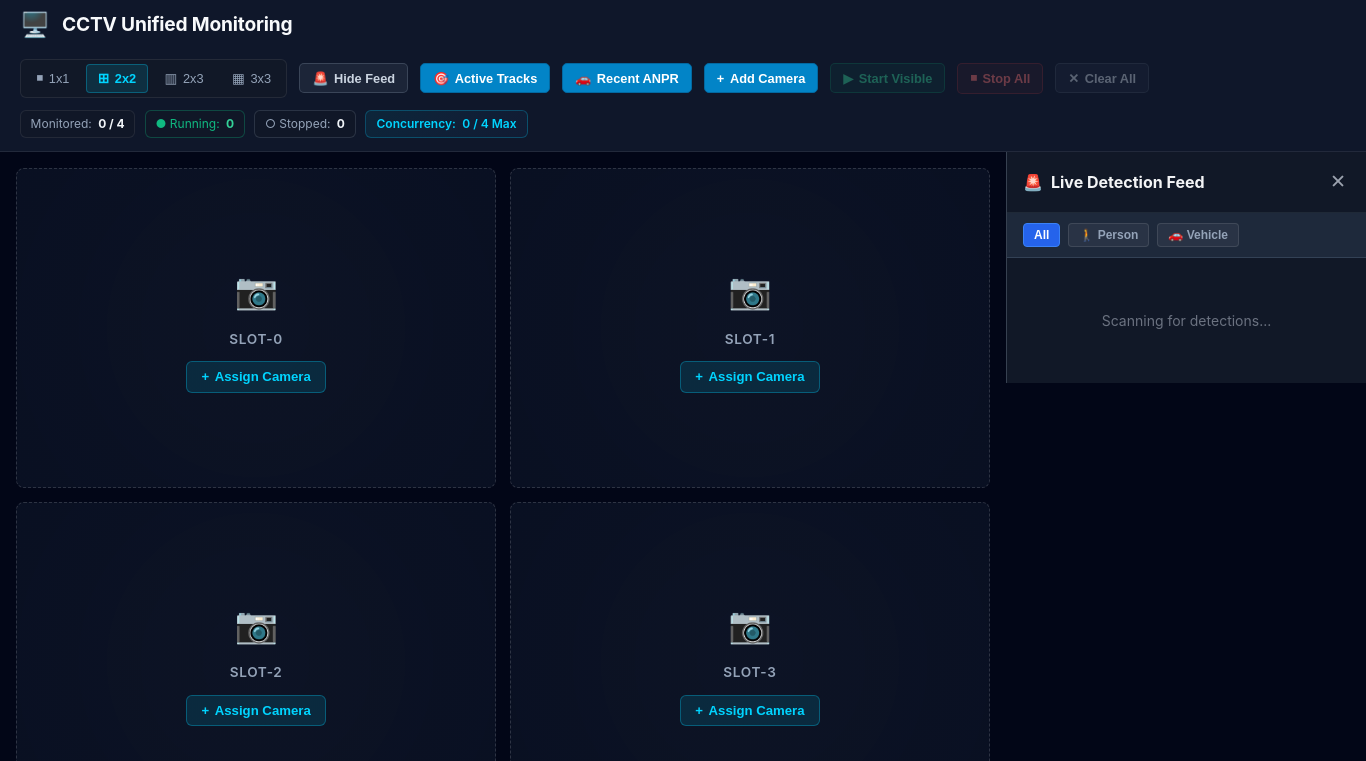
Phase 6 — MonitoringPage & Multi-Camera Grid › 2. switches between 1x1, 2x2, 2x3, and 3x3 layouts
Switch to 1x1
Click the button "⏹ 1x1" at (53, 78), box x1=25 y1=64 x2=81 y2=93
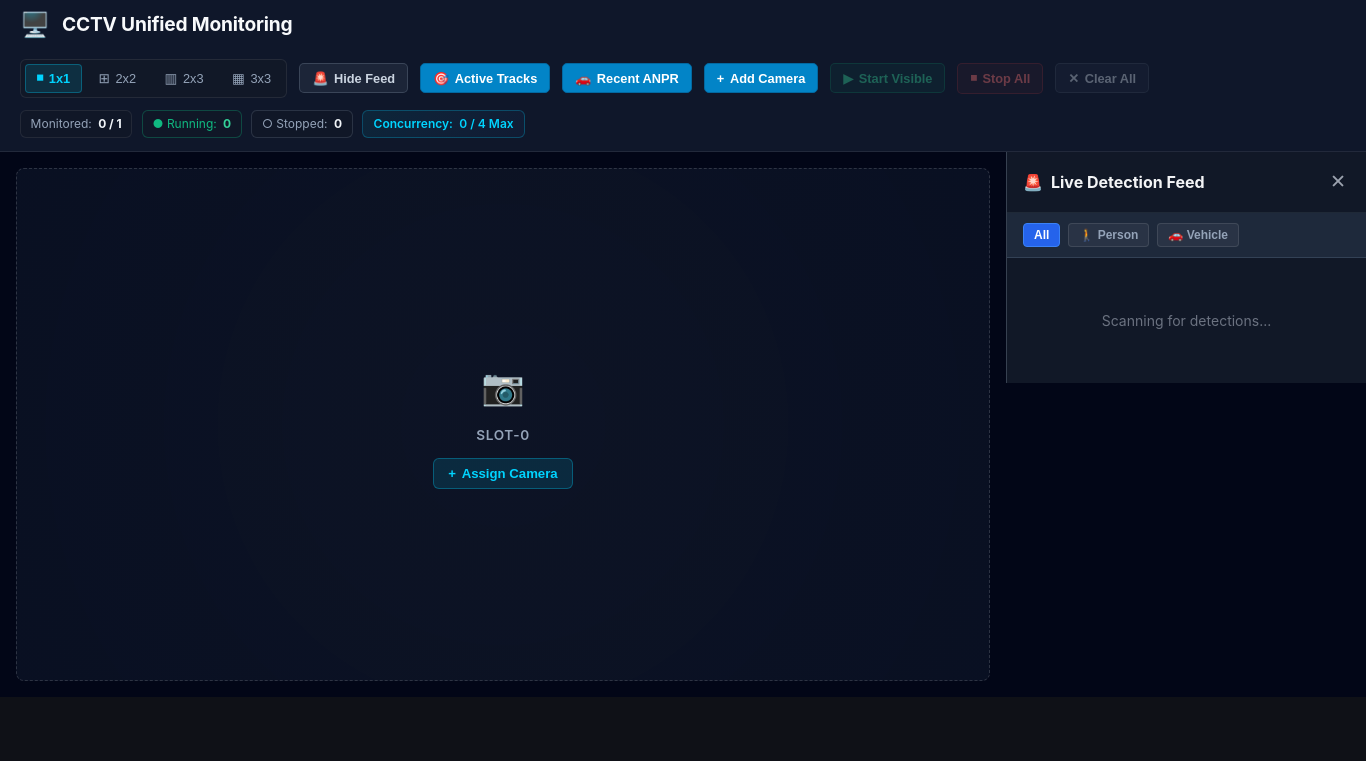
Expected: the text "SLOT-0" is shown, x1=476 y1=425 x2=530 y2=446
Result: the text "SLOT-1" is gone
Switch to 2x3 (6 slots)
Click the button "▥ 2x3" at (184, 78), box x1=153 y1=64 x2=215 y2=93
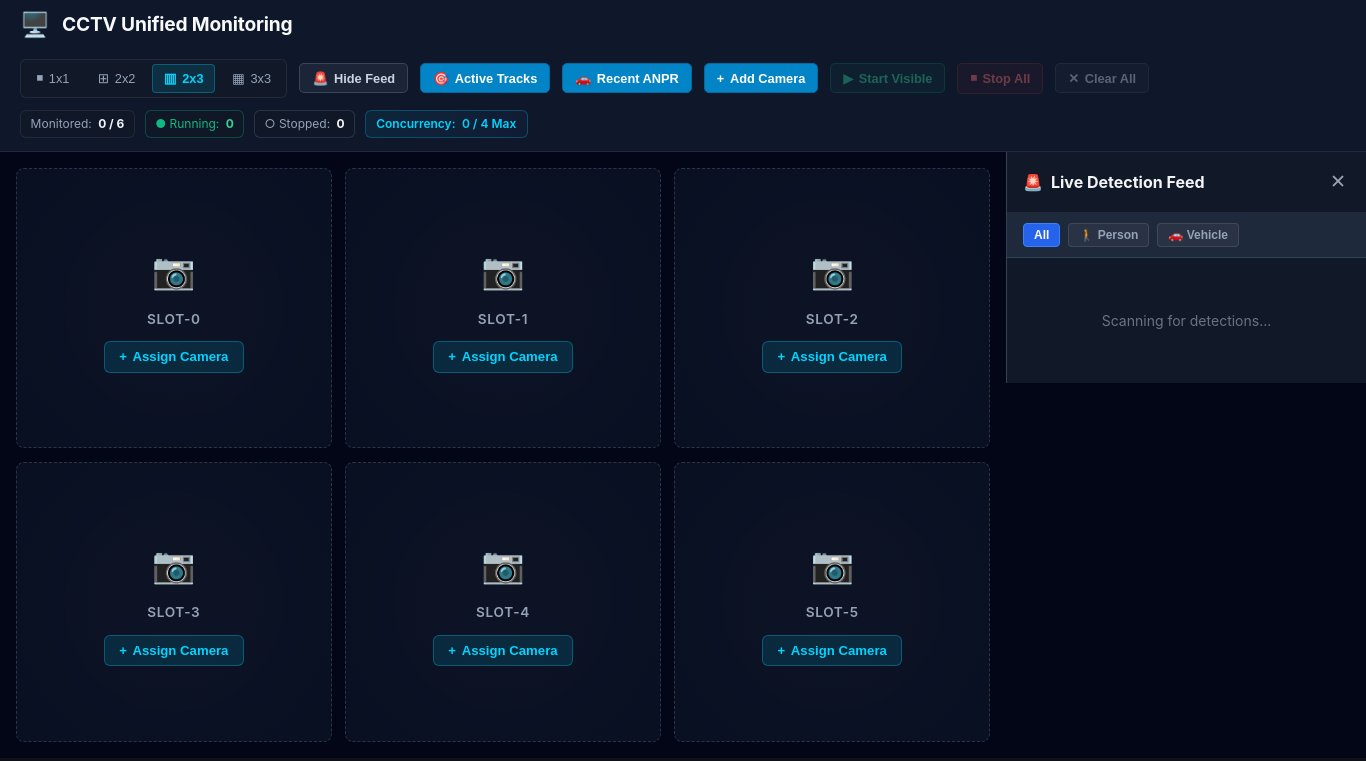
Expected: the text "SLOT-0" is shown, x1=147 y1=309 x2=201 y2=329
Result: the text "SLOT-5" is shown at x1=806 y1=602 x2=859 y2=623
Switch to 3x3 (9 slots)
Click the button "▦ 3x3" at (252, 78), box x1=221 y1=64 x2=282 y2=93
(page scrolled)
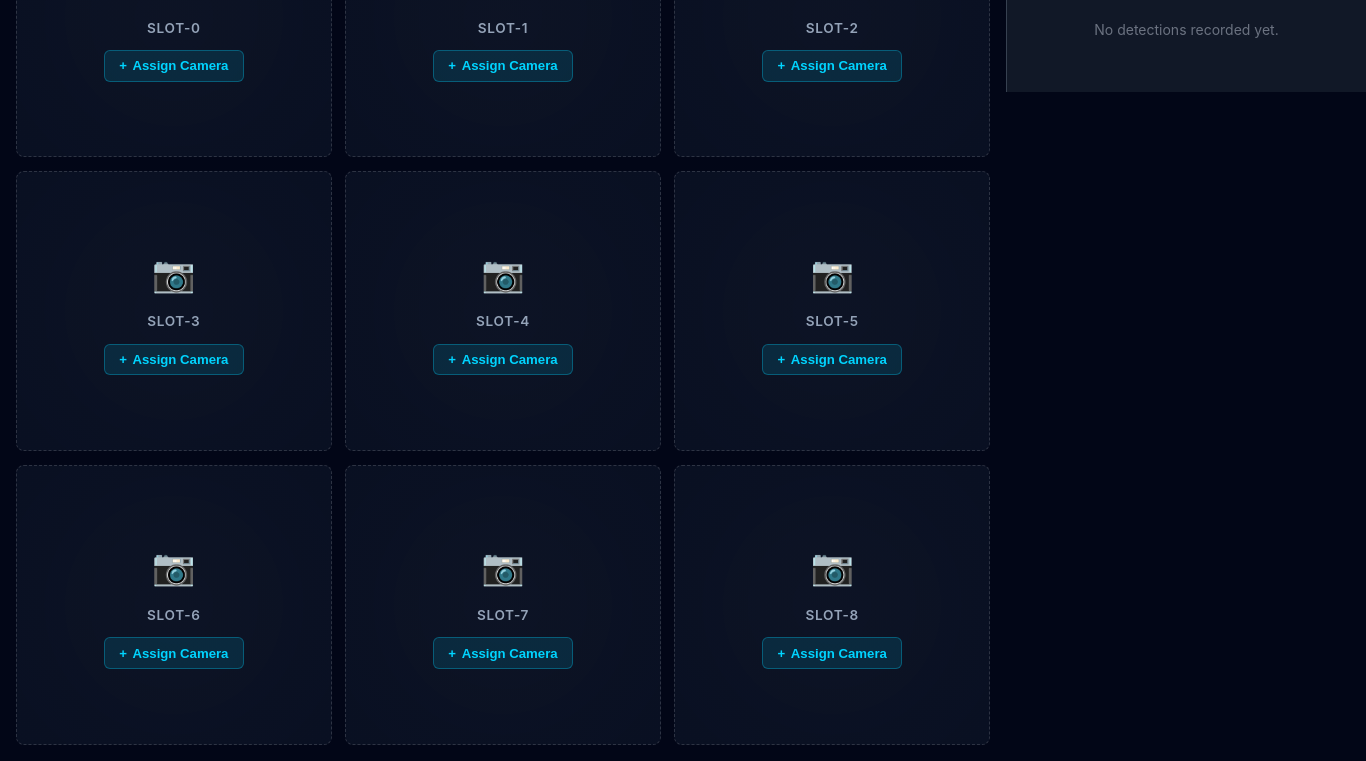
Result: the text "SLOT-8" is shown at x1=806 y1=605 x2=859 y2=626
